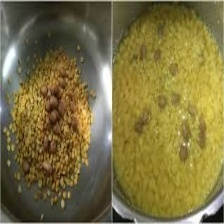dal: (114, 2, 224, 219)
